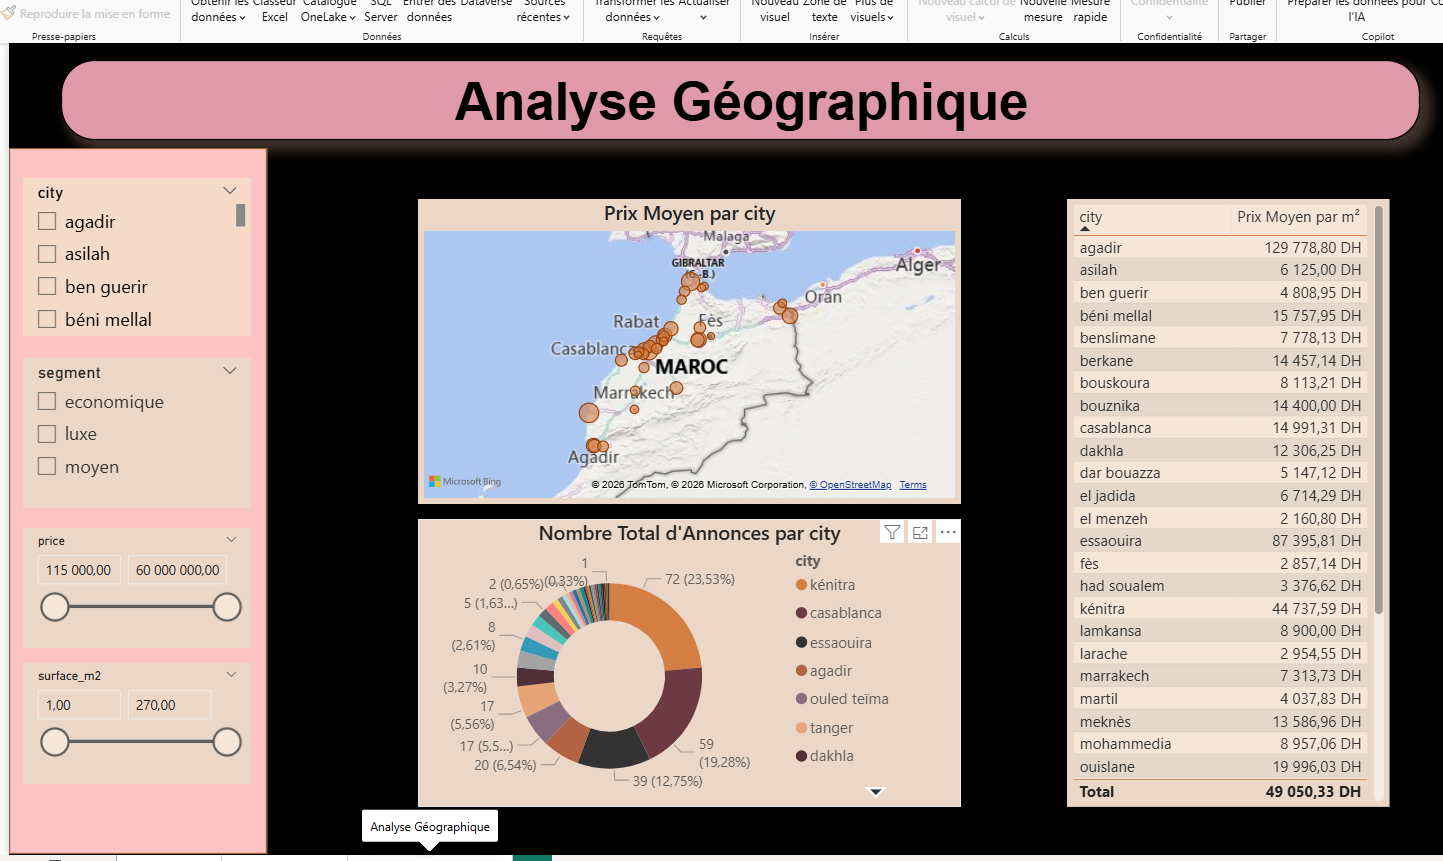

The page's visual inventory and layout, read from the dashboard file:
{"tool":"powerbi","page":{"name":"Analyse Géographique","canvas":[1280,720],"ordinal":2},"visuals":[{"type":"donutChart","fields":{"Category":["bi_schema dim_localisation.city"],"Y":["Mesures.Nombre Total d'Annonces"]},"box":[362.7,422.1,481.5,255.4],"z":0},{"type":"tableEx","fields":{"Values":["bi_schema dim_localisation.city","Mesures.Prix Moyen par m²"]},"box":[938.1,138.3,286.4,539.1],"z":1000},{"type":"map","fields":{"Category":["bi_schema dim_localisation.city"],"Size":["Mesures.Prix Moyen"]},"box":[362.7,138.3,481.5,269.6],"z":2000},{"type":"textbox","title":"Analyse Géographique","box":[46.1,15.1,1205,70.9],"z":3000},{"type":"shape","box":[0,93.1,228.8,626],"z":4000},{"type":"slicer","fields":{"Values":["bi_schema fact_annonce.price"]},"box":[12.8,429.7,202.3,106.1],"z":5000},{"type":"slicer","fields":{"Values":["bi_schema dim_caracteristiques.segment"]},"box":[12.8,279.5,202.3,133.4],"z":6000},{"type":"slicer","fields":{"Values":["bi_schema dim_localisation.city"]},"box":[12.8,119.8,202.3,139.7],"z":7000},{"type":"slicer","fields":{"Values":["bi_schema dim_caracteristiques.surface_m2"]},"box":[12.8,549.4,202.3,107.1],"z":8000}]}

Visuals, with their boxes on the page's 1280x720 design canvas (x1, y1, x2, y2). These are canvas units, not pixel positions in the 1443x861 screenshot, which may show the page scaled, cropped or inside an application window:
donutChart - bi_schema dim_localisation.city x Mesures.Nombre Total d'Annonces: BBox(363, 422, 844, 678)
tableEx - bi_schema dim_localisation.city x Mesures.Prix Moyen par m²: BBox(938, 138, 1224, 677)
map - bi_schema dim_localisation.city x Mesures.Prix Moyen: BBox(363, 138, 844, 408)
"Analyse Géographique" textbox: BBox(46, 15, 1251, 86)
shape: BBox(0, 93, 229, 719)
slicer - bi_schema fact_annonce.price: BBox(13, 430, 215, 536)
slicer - bi_schema dim_caracteristiques.segment: BBox(13, 280, 215, 413)
slicer - bi_schema dim_localisation.city: BBox(13, 120, 215, 260)
slicer - bi_schema dim_caracteristiques.surface_m2: BBox(13, 549, 215, 656)
